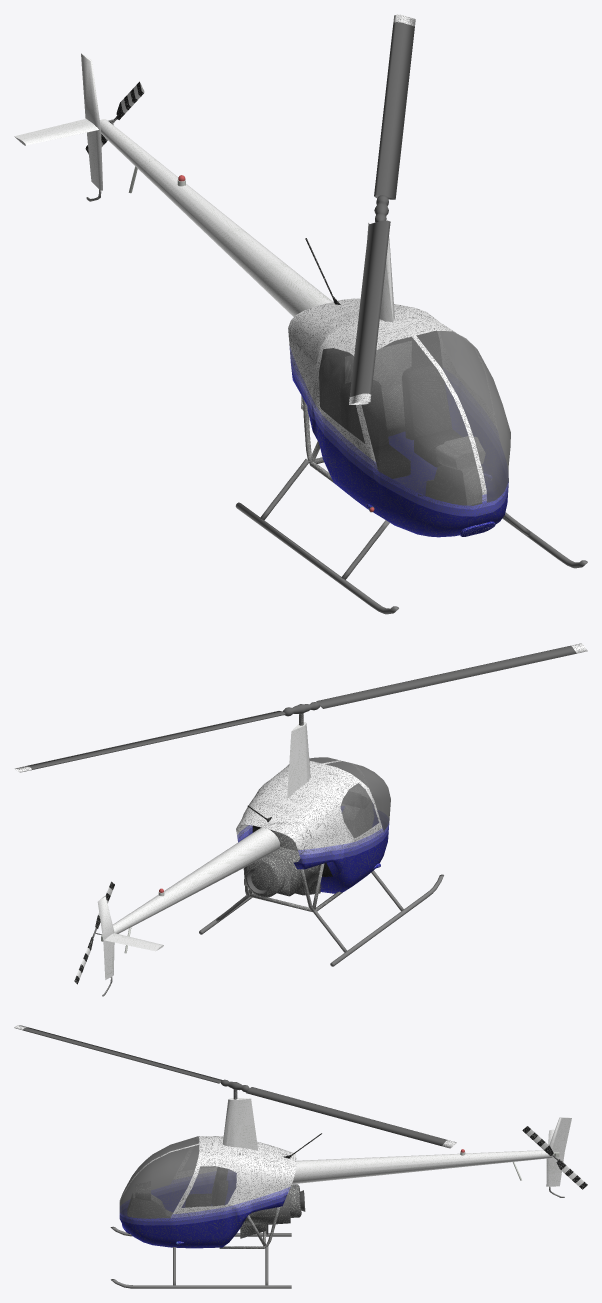
The model's file is robinson_r22.dae.
3 views of the same model, one above another, from view 1: azimuth 30°, elevation 25°; view 2: azimuth 150°, elevation 25°; view 3: azimuth 270°, elevation 25° (orthographic). The views are drawn at different scales.
Parts seen in each view (by area): view 1: group_4 (×7), SketchUp (×3), group_8 (×2), group_14 (×2), group_1 (×2), group_6, group_3 (×2), group_13 (×2), group_5, group_0; view 2: group_4 (×6), SketchUp (×3), group_8 (×2), group_6, group_1 (×2), group_7, group_3, group_0; view 3: group_4 (×7), SketchUp (×3), group_8 (×2), group_5, group_7, group_1, group_2, group_3.
Part boxes in pixels (x1,y1,x2,y2): group_4 (×7): [288, 298, 510, 537]; SketchUp (×3): [100, 119, 485, 505]; group_8 (×2): [349, 22, 414, 397]; group_14 (×2): [340, 363, 451, 447]; group_1 (×2): [14, 53, 102, 190]; group_6: [319, 348, 364, 443]; group_3 (×2): [301, 341, 411, 436]; group_13 (×2): [373, 429, 461, 478]; group_5: [440, 331, 492, 411]; group_0: [235, 502, 398, 614]; group_4 (×6): [236, 760, 390, 893]; SketchUp (×3): [112, 801, 373, 933]; group_8 (×2): [25, 646, 576, 770]; group_6: [340, 783, 379, 838]; group_1 (×2): [97, 896, 163, 979]; group_7: [287, 722, 310, 798]; group_3: [244, 847, 319, 896]; group_0: [330, 874, 443, 966]; group_4 (×7): [119, 1136, 296, 1248]; SketchUp (×3): [127, 1149, 552, 1218]; group_8 (×2): [23, 1027, 446, 1145]; group_5: [181, 1166, 236, 1207]; group_7: [222, 1097, 258, 1150]; group_1: [546, 1117, 571, 1186]; group_2: [111, 1279, 291, 1288]; group_3: [242, 1192, 290, 1226].
Bounding box in the file's own units: 170 × 334 × 116.
